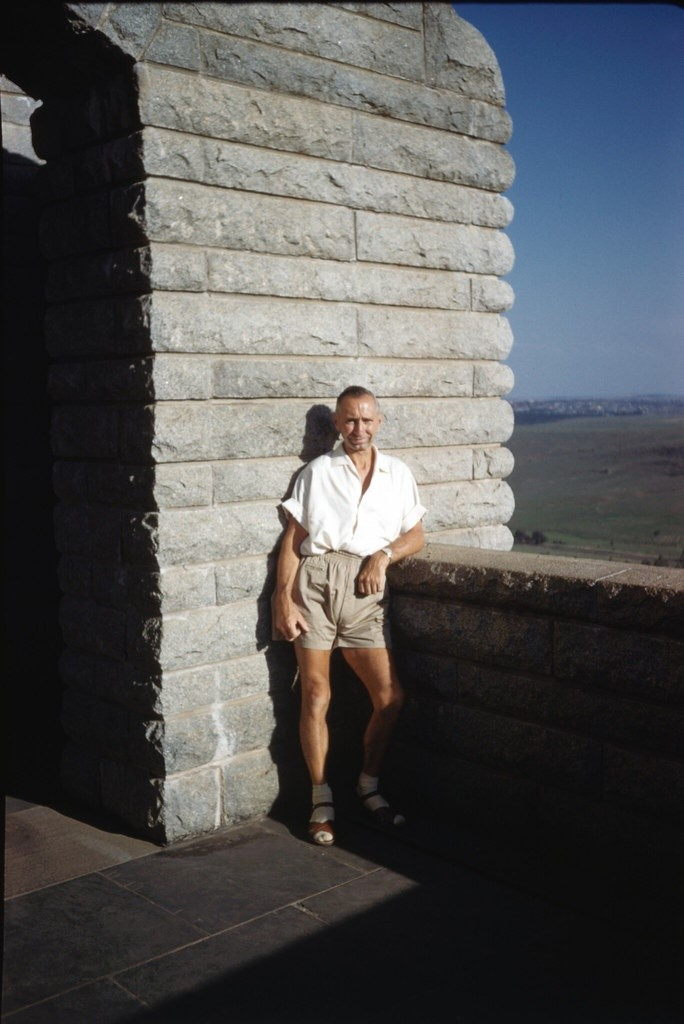face_no_mask: (333, 385, 381, 456)
